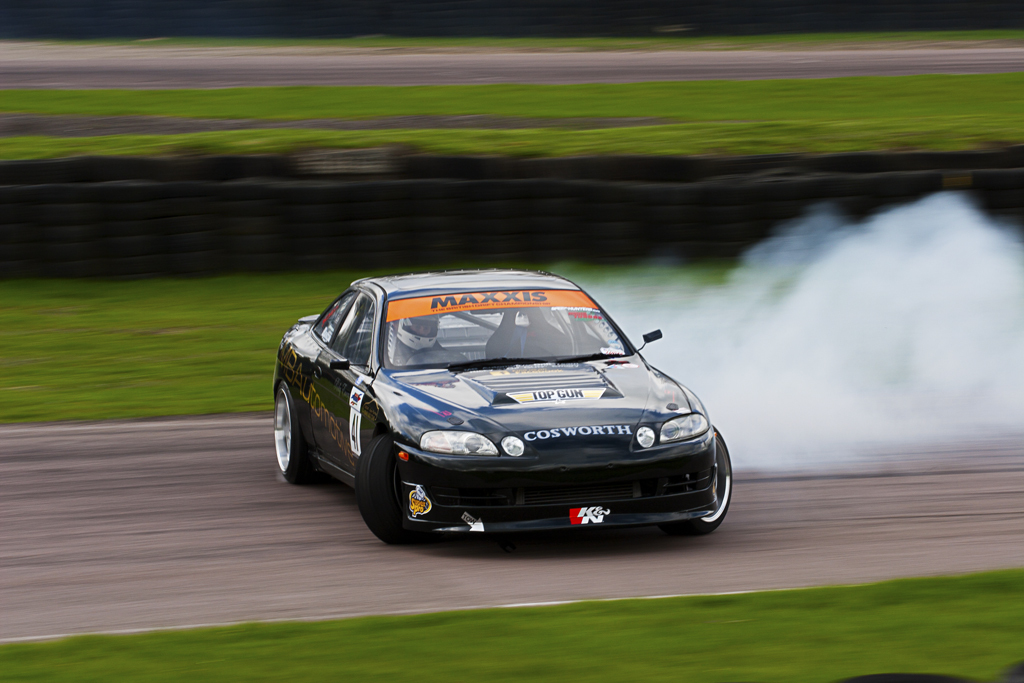Car: (277, 271, 734, 548)
